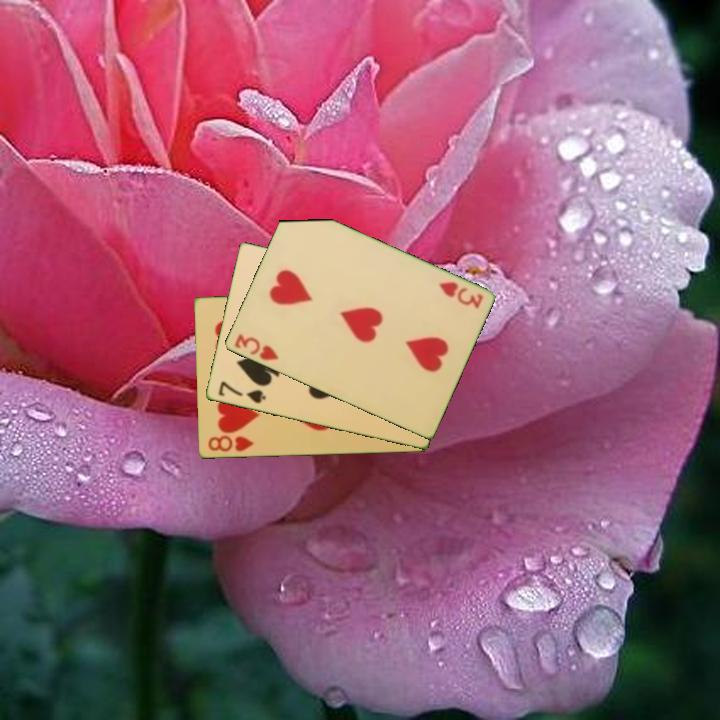3h: (231, 330, 281, 364), (435, 278, 486, 311)
7s: (215, 378, 268, 407)
8h: (204, 432, 257, 455)
